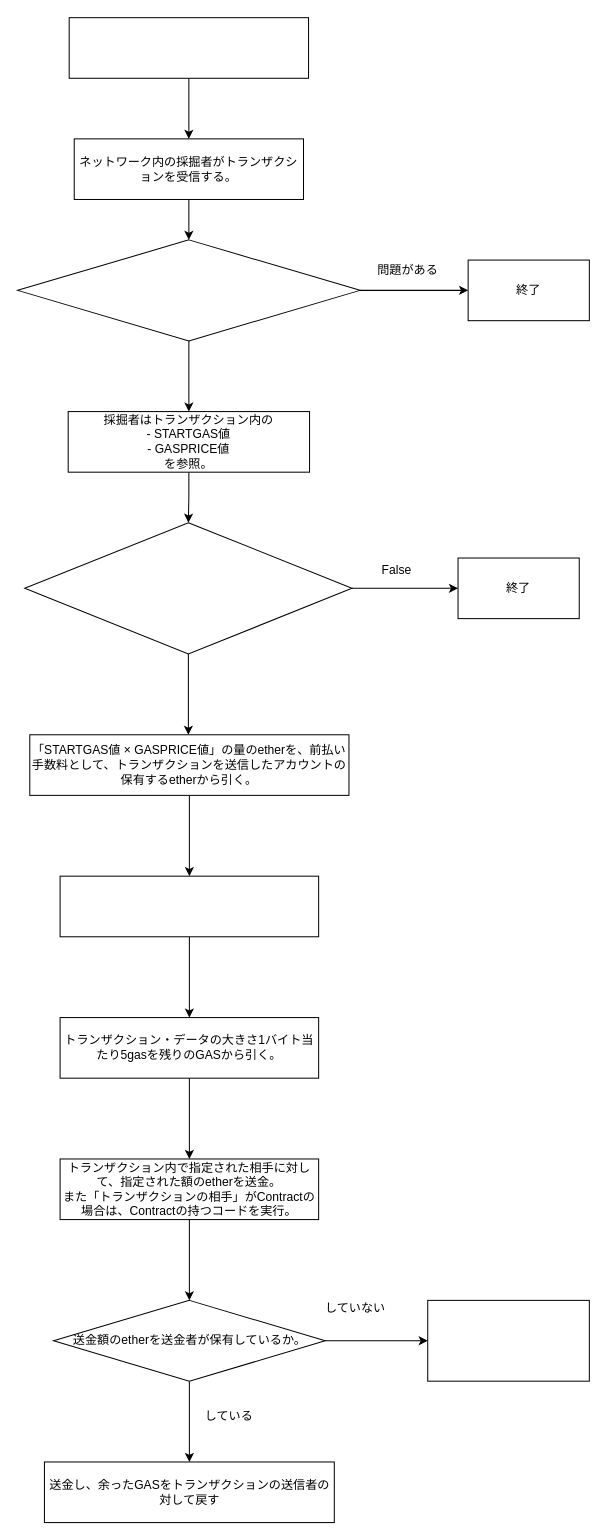
Some shapes in this 607 by 1540 pixel diagram are drawn without their labels. Each missing label, with the box of its shape:
EOAがトランザクションを生成し、Etherrumネットワーク上に送信する。: (68, 17, 309, 78)
トランザクションの送信したアカウントの etherの保有量が、 「STARTGAS値 × GASPRICE値」 よりも多く存在する。: (24, 522, 352, 654)
手数料の支払情報のみを残して、元の状態にロールバック: (427, 1299, 589, 1381)
採掘者は、署名の正当性など、 受信したトランザクションのデータに 問題がないかをチェック。: (17, 239, 360, 341)
残りのGAS = STARTGAS値とする。: (59, 875, 319, 937)
